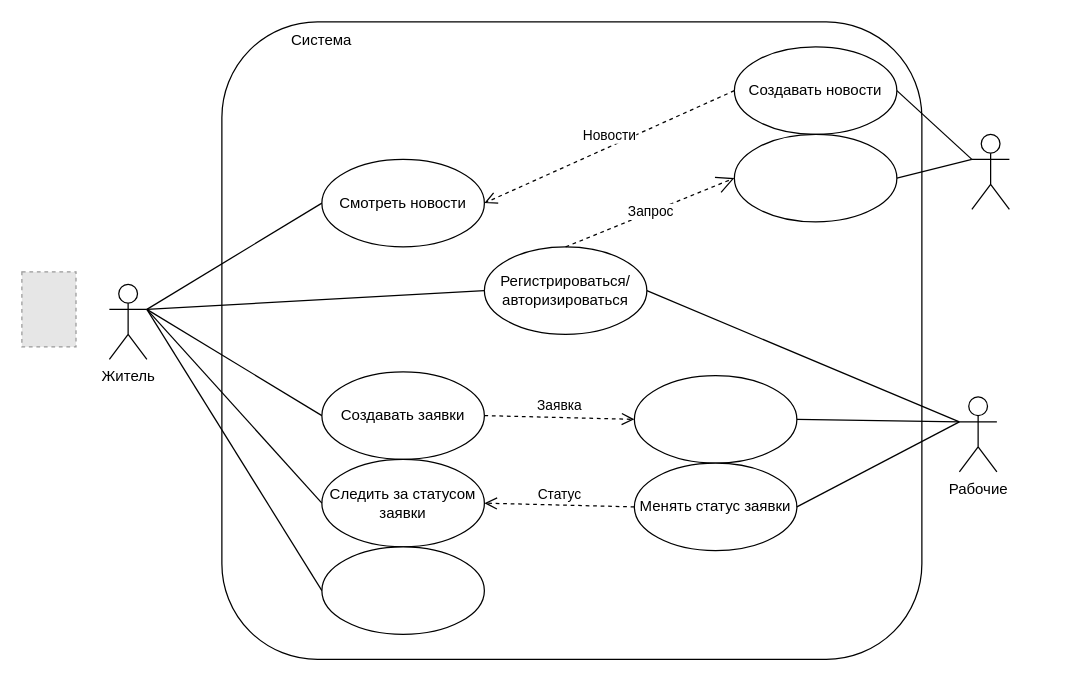
This 1066x681 diagram has some shape labels left out. Grey dashed boxes stand in for pictures. Here are the shapes that lost their labels. From the top down, the box of each, then its label:
(733, 133, 897, 222): Разрешать регистрацию
(971, 133, 1009, 209): Администратор
(633, 374, 797, 463): Просматривать заявки
(321, 546, 484, 634): Получать уведомления
